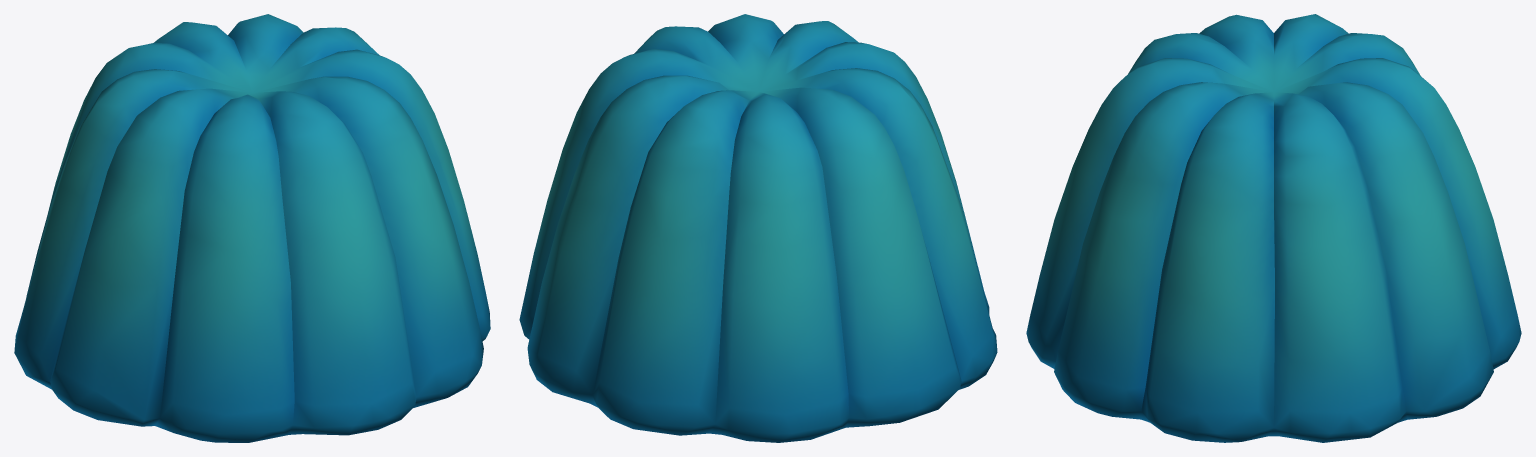
File: Pudding.glb
3 views of the same model, side by side, from view 1: azimuth 30°, elevation 25°; view 2: azimuth 150°, elevation 25°; view 3: azimuth 270°, elevation 25° (orthographic).
Parts seen in each view (by area): view 1: geometry_0; view 2: geometry_0; view 3: geometry_0.
Part boxes in pixels (bbox=[...]): geometry_0: bbox=[14, 14, 490, 442]; geometry_0: bbox=[519, 14, 997, 442]; geometry_0: bbox=[1026, 14, 1521, 442].
Size of the model in its own units: 0.9668 by 0.6313 by 0.9995.
Materials: 1 (1 with a texture image).
